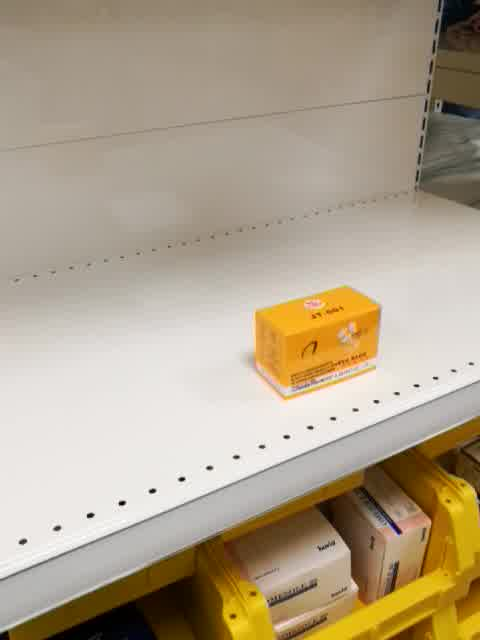jasminetea: (248, 283, 385, 405)
